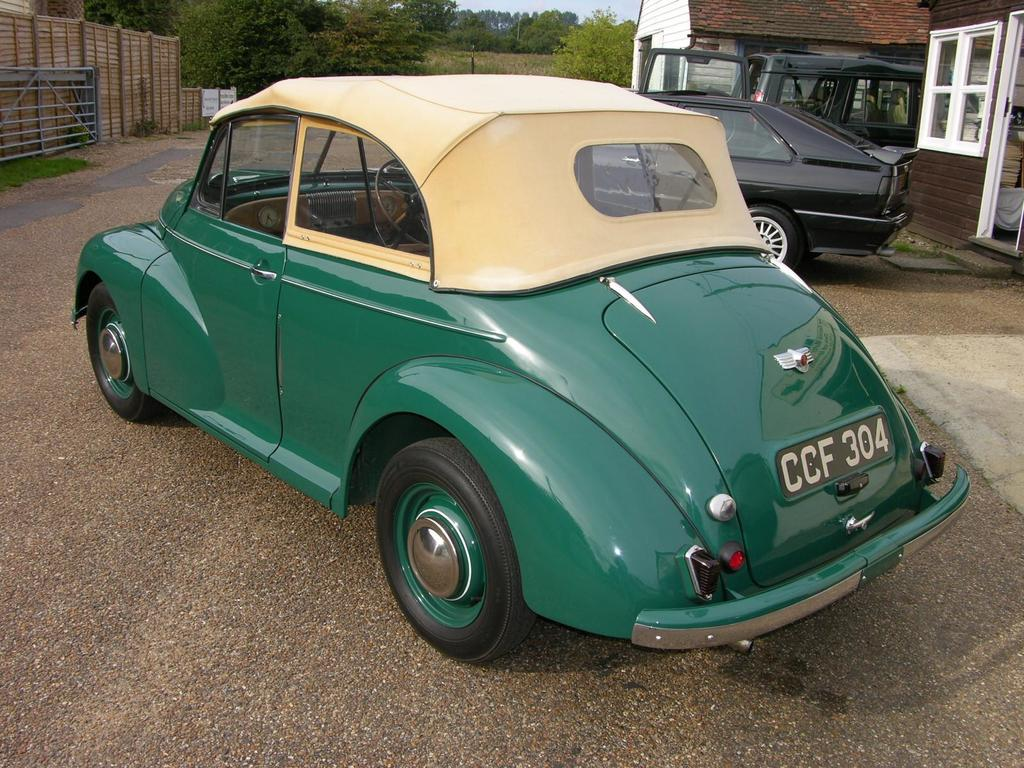Car: (72, 72, 968, 650), (593, 92, 911, 279)
